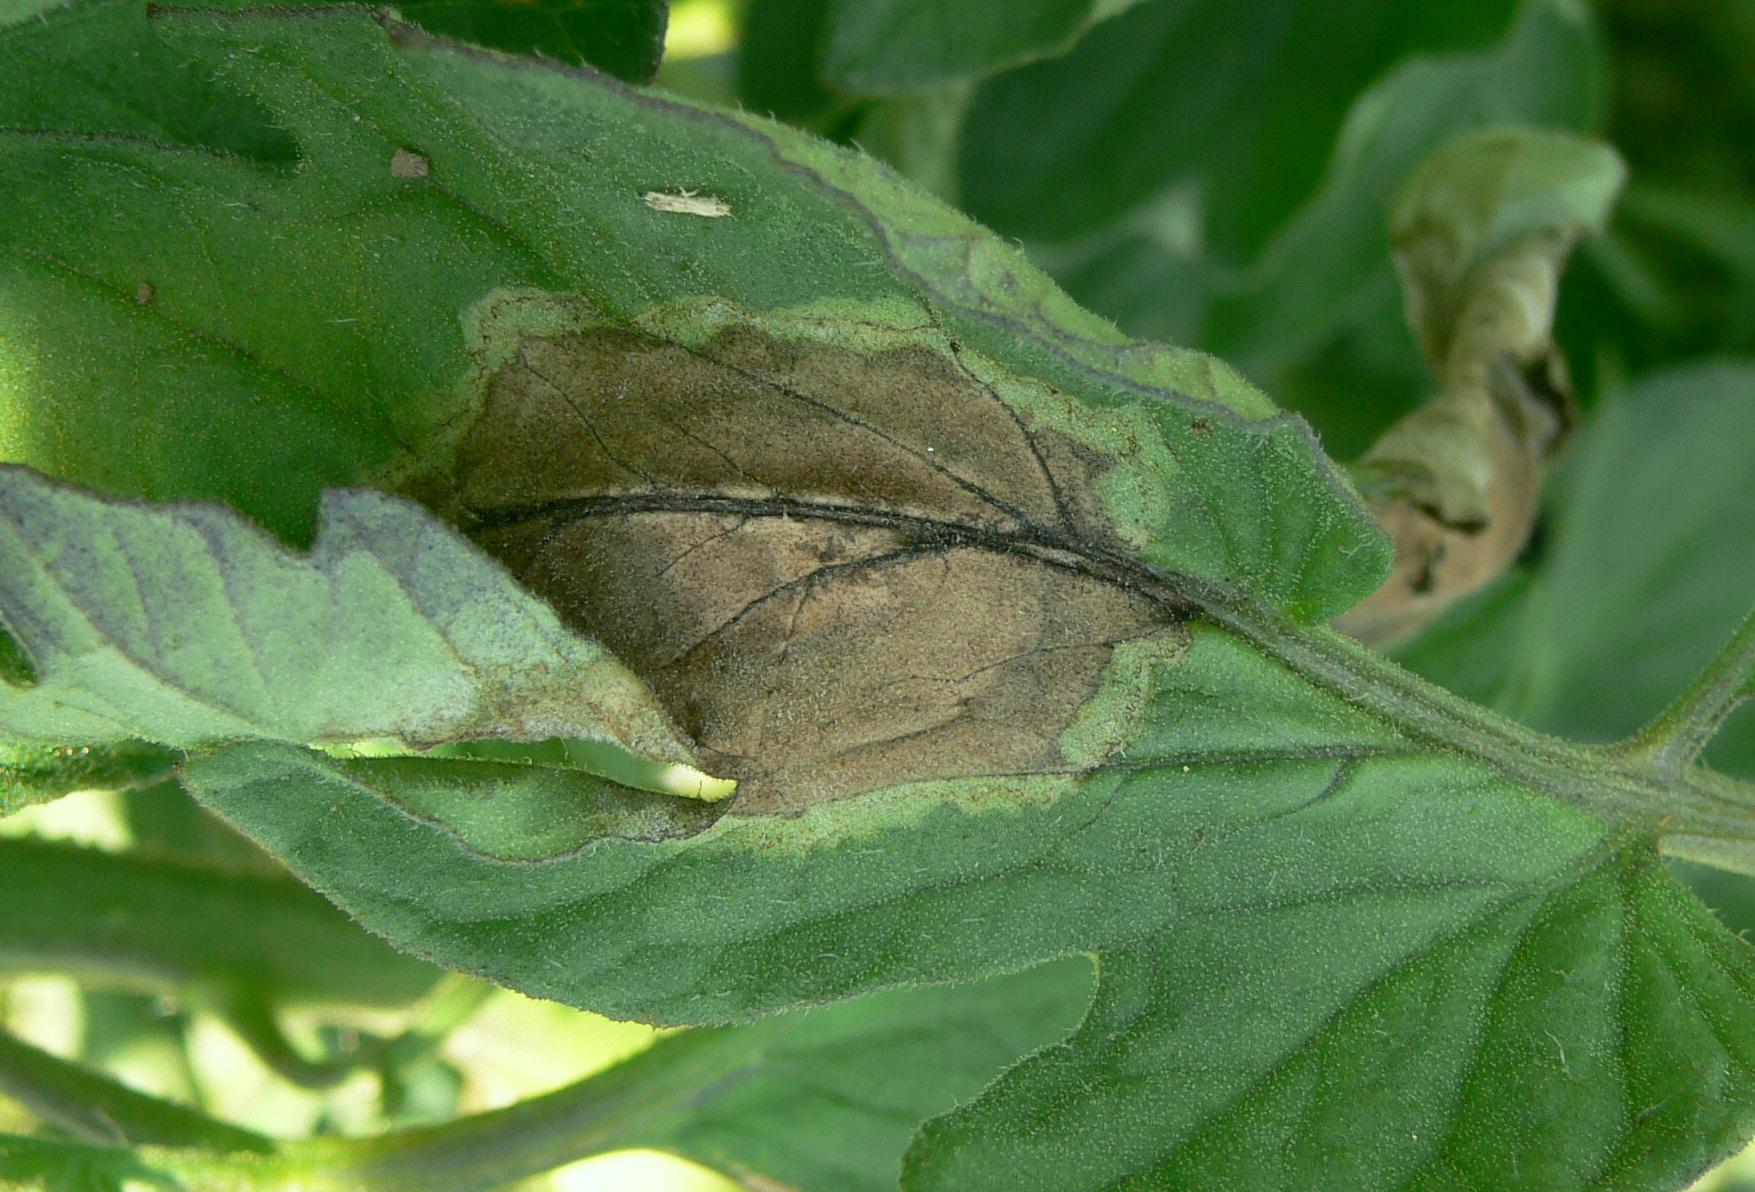Tomato leaf late blight: (25, 28, 1708, 1148)
